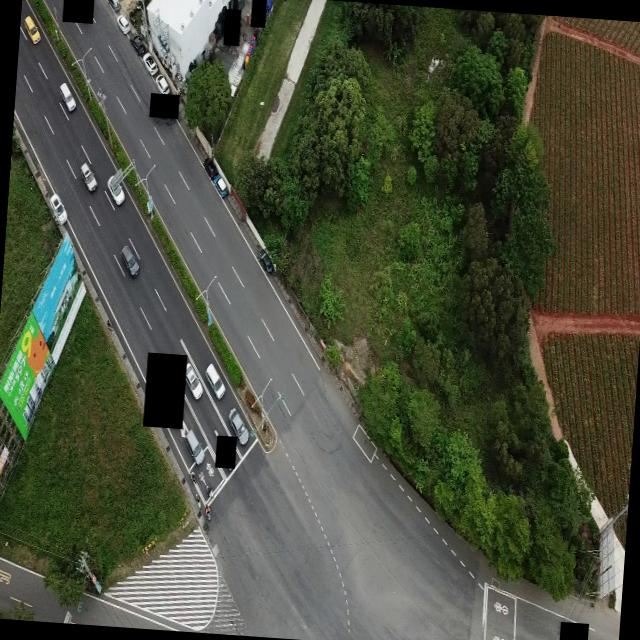car: (179, 422, 205, 464), (203, 360, 228, 400), (46, 192, 72, 230), (183, 360, 206, 400), (226, 406, 250, 443), (120, 242, 140, 277), (105, 173, 126, 206), (58, 80, 78, 112), (22, 12, 42, 44), (78, 161, 98, 192), (258, 246, 276, 274), (141, 51, 159, 76), (202, 156, 218, 182), (115, 12, 132, 35), (213, 175, 230, 198), (153, 74, 170, 93)
